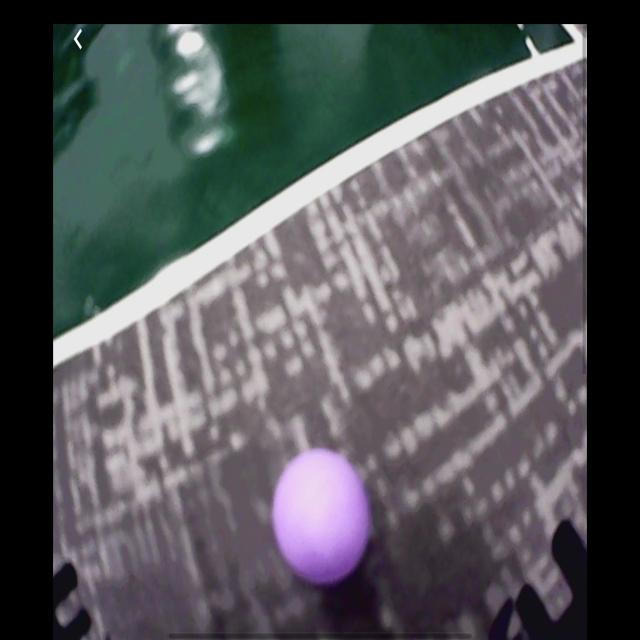ball: (274, 451, 372, 584)
